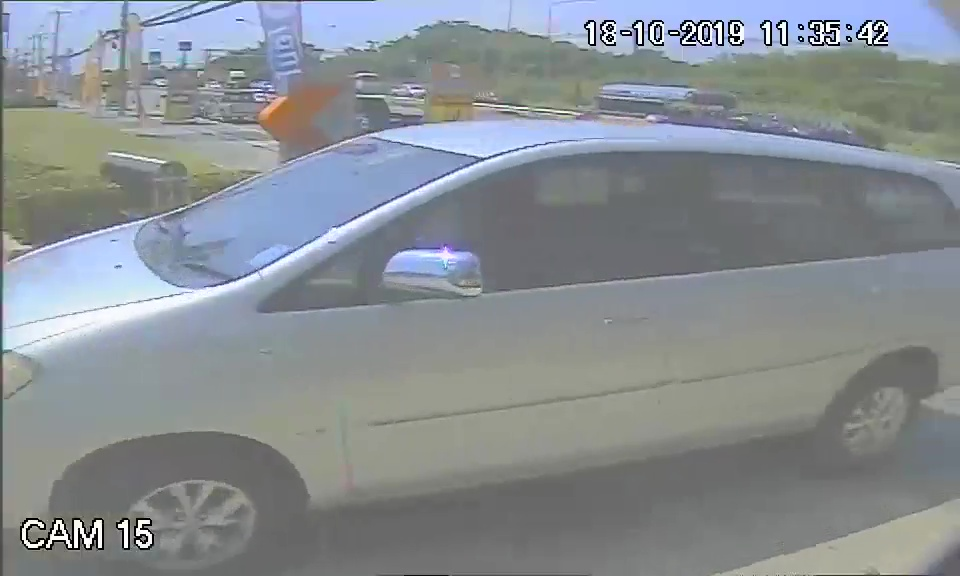pickup: (3, 118, 958, 515)
